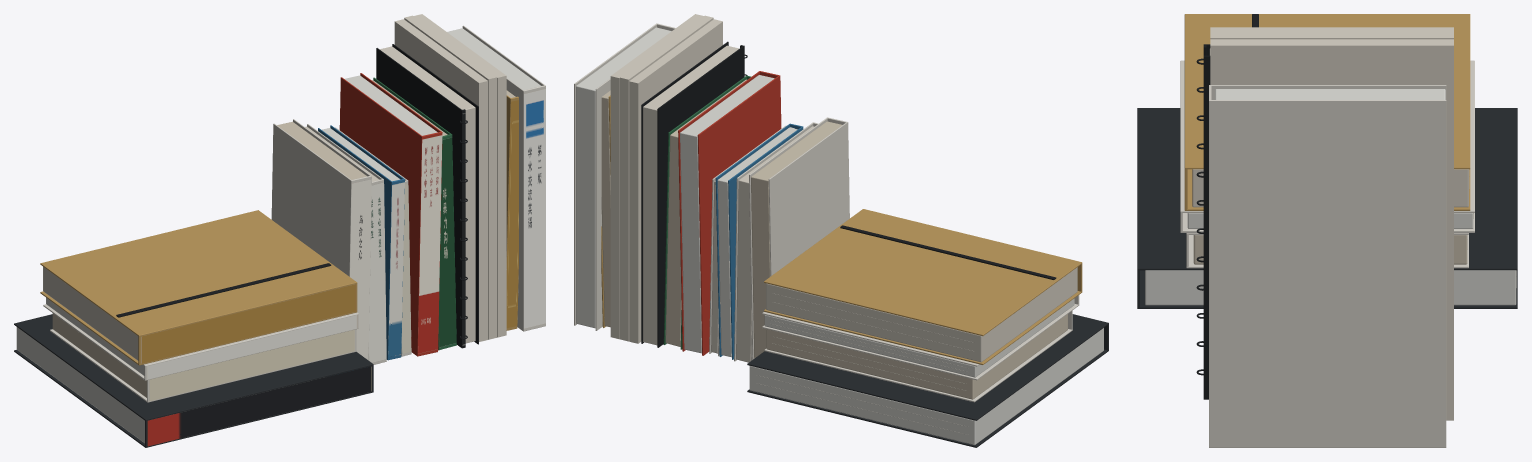
The model's file is book_uv2.glb.
The picture shows the model from 3 angles, left to right: view 1: azimuth 30°, elevation 25°; view 2: azimuth 150°, elevation 25°; view 3: azimuth 270°, elevation 25°; orthographic projection. The views are drawn at different scales.
Parts seen in each view (by area): view 1: upright_spine_labels, horizontal_gold_cover, horizontal_spine_labels, loose_papers, upright_book_00_cover, horizontal_black_cover, upright_book_04_cover, spiral_notebook_cover, spiral_notebook_pages, horizontal_black_pages, horizontal_gold_pages, upright_book_07_cover (+12 smaller); view 2: horizontal_gold_cover, loose_papers, upright_book_00_cover, horizontal_black_pages, horizontal_gold_pages, horizontal_black_cover, upright_book_04_cover, upright_book_07_pages, horizontal_cream_pages, spiral_notebook_cover, upright_book_04_pages, spiral_notebook_pages (+16 smaller); view 3: upright_book_07_cover, loose_papers, horizontal_black_cover, horizontal_gold_cover, horizontal_black_pages, upright_book_07_pages, spiral_notebook_cover, horizontal_white_cover, horizontal_gold_pages, horizontal_cream_pages, horizontal_white_pages, horizontal_cream_cover (+1 smaller).
Part boxes in pixels (x1,y1,x2,y2): upright_spine_labels: (350,88,545,362); horizontal_gold_cover: (40,210,357,365); horizontal_spine_labels: (141,284,371,446); loose_papers: (394,14,506,341); upright_book_00_cover: (271,119,371,348); horizontal_black_cover: (14,314,373,447); upright_book_04_cover: (339,73,442,356); spiral_notebook_cover: (376,44,478,348); spiral_notebook_pages: (380,46,475,343); horizontal_black_pages: (16,327,144,443); horizontal_gold_pages: (43,266,138,360); upright_book_07_cover: (462,25,545,331); horizontal_gold_cover: (764,209,1082,364); loose_papers: (610,14,722,343); upright_book_00_cover: (749,117,849,359); horizontal_black_pages: (749,328,1103,444); horizontal_gold_pages: (766,267,1077,362); horizontal_black_cover: (747,314,1108,447); upright_book_04_cover: (678,71,781,355); upright_book_07_pages: (576,27,671,328); horizontal_cream_pages: (766,314,1067,399); spiral_notebook_cover: (641,41,744,347); upright_book_04_pages: (680,75,774,353); spiral_notebook_pages: (643,45,738,345); upright_book_07_cover: (1209,85,1446,447); loose_papers: (1210,27,1453,420); horizontal_black_cover: (1137,108,1517,308); horizontal_gold_cover: (1184,14,1470,210); horizontal_black_pages: (1145,270,1516,305); upright_book_07_pages: (1215,89,1445,99); spiral_notebook_cover: (1203,44,1210,399); horizontal_white_cover: (1180,60,1474,232); horizontal_gold_pages: (1192,169,1468,207); horizontal_cream_pages: (1193,235,1467,264); horizontal_white_pages: (1187,213,1473,228); horizontal_cream_cover: (1186,233,1468,268).
Size of the model in its own units: 0.4715 by 0.276 by 0.2532.
Materials: 12 (1 with a texture image).
